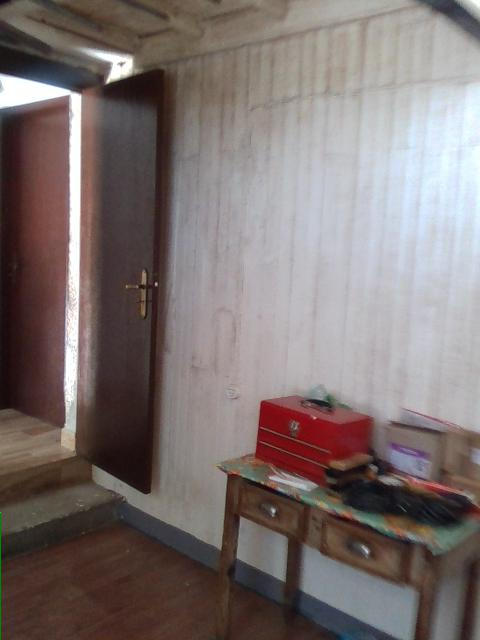door: (72, 68, 158, 496)
